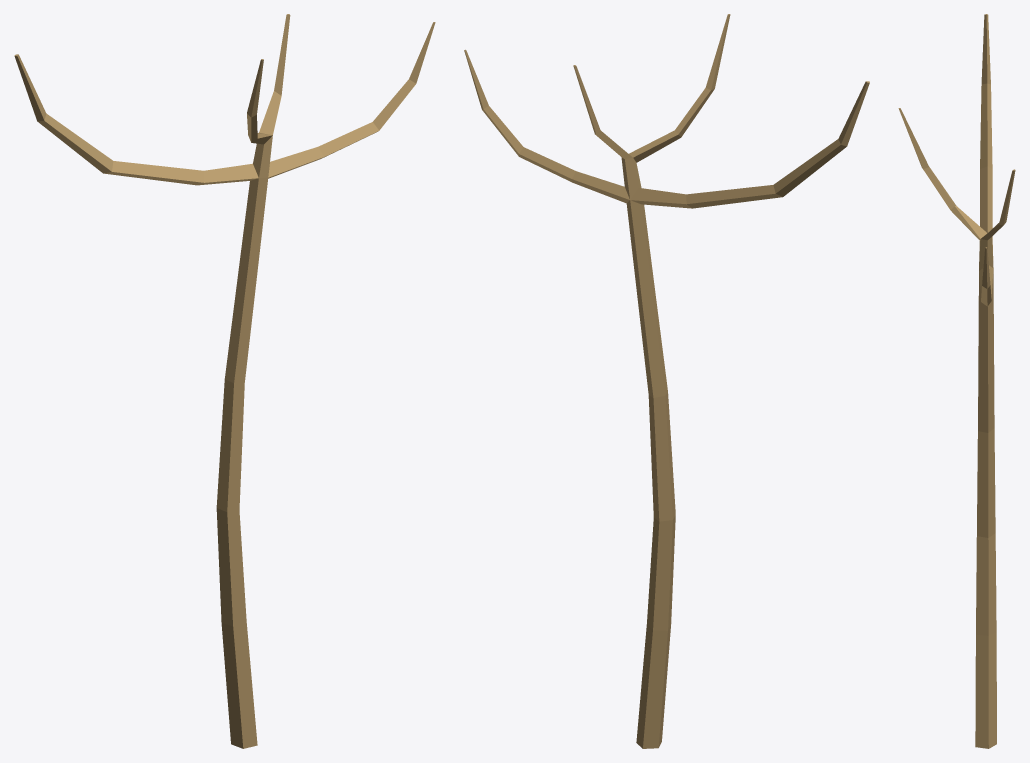
Rendered from Acacia_Tree_NoLeaves_m_01.fbx.
3 renders of one model, left to right at view 1: azimuth 30°, elevation 25°; view 2: azimuth 150°, elevation 25°; view 3: azimuth 270°, elevation 25°, orthographic. The views are drawn at different scales.
Visible parts, largest first — view 1: Acacia_Tree_NoLeaves_m_01; view 2: Acacia_Tree_NoLeaves_m_01; view 3: Acacia_Tree_NoLeaves_m_01.
Boxes of the visible parts, left/top/right/bottom form: Acacia_Tree_NoLeaves_m_01: left=14, top=14, right=435, bottom=748; Acacia_Tree_NoLeaves_m_01: left=464, top=14, right=869, bottom=748; Acacia_Tree_NoLeaves_m_01: left=898, top=14, right=1015, bottom=748.
Bounding box in the file's own units: 555 × 937 × 156.
